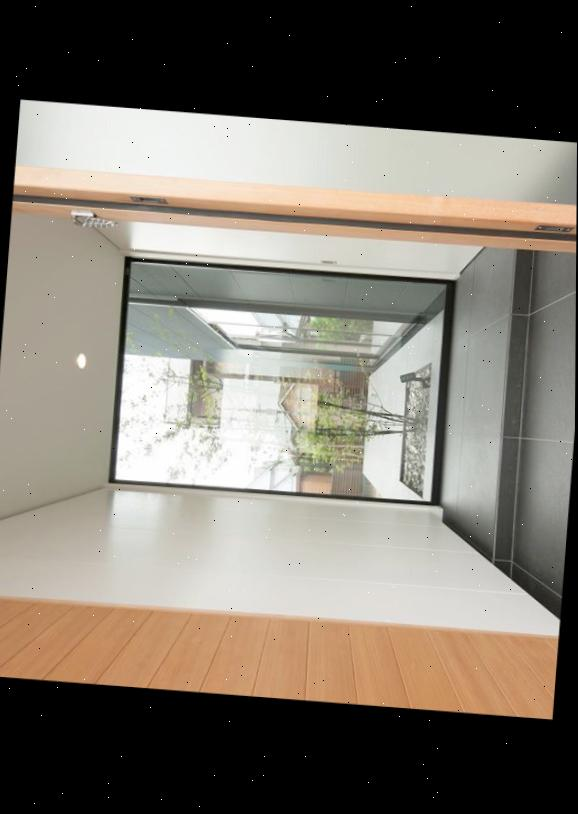floor: (510, 249, 576, 619)
safe: (439, 246, 515, 563)
